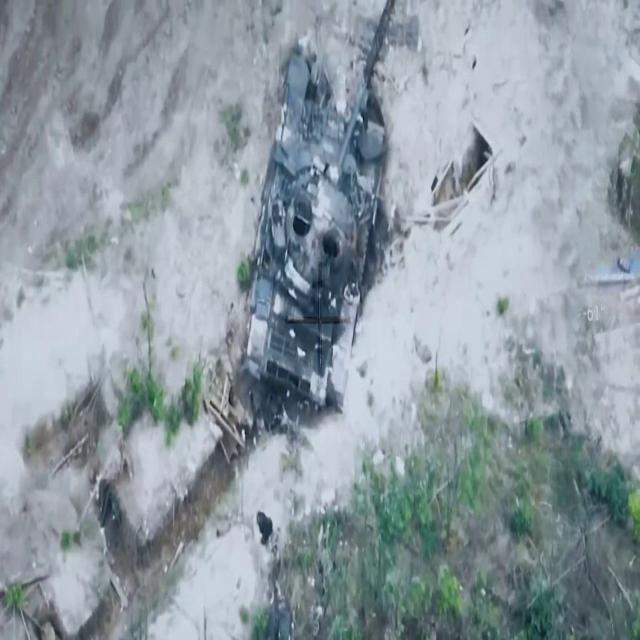MBT: (239, 1, 398, 414)
